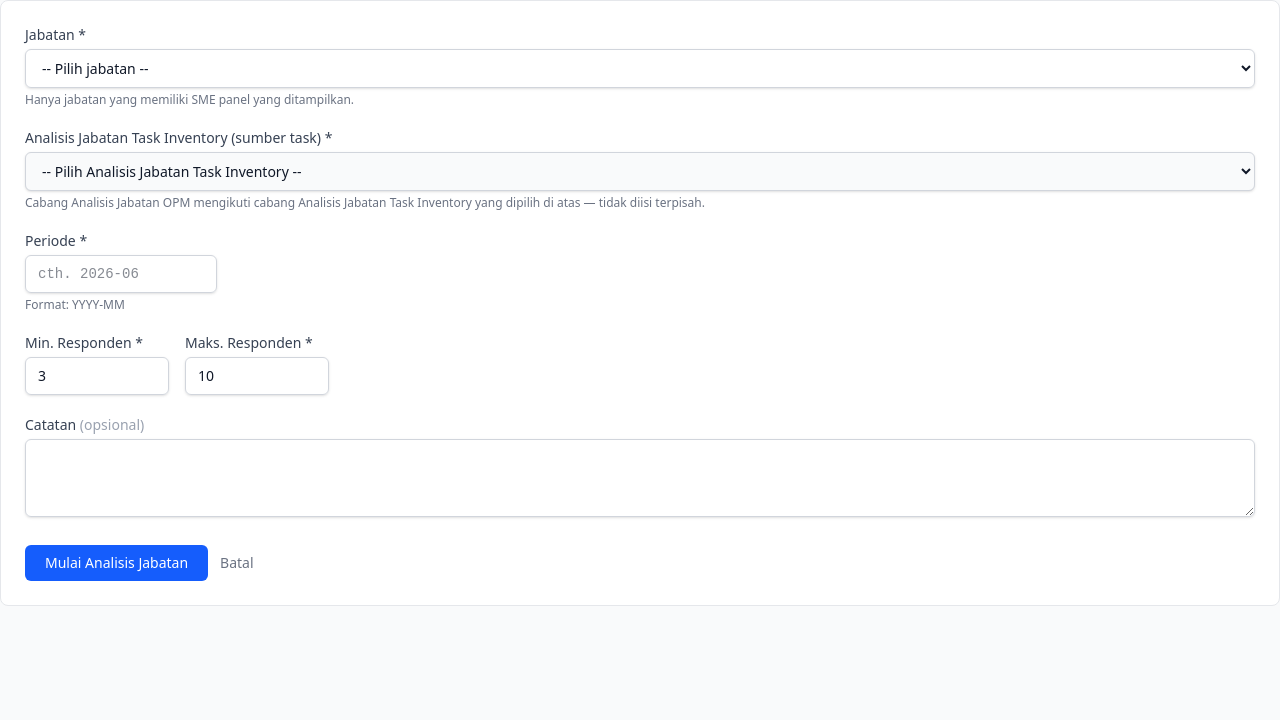
Test: OpmSesiForm — restriksi cabang sesi TI (backlog #54) › sesi TI ber-cabang null tidak muncul di dropdown, disertai pesan penjelas
Select "Guru Kelas SD" in the dropdown labelled "Jabatan *": (640, 68) [25,49,1255,88]
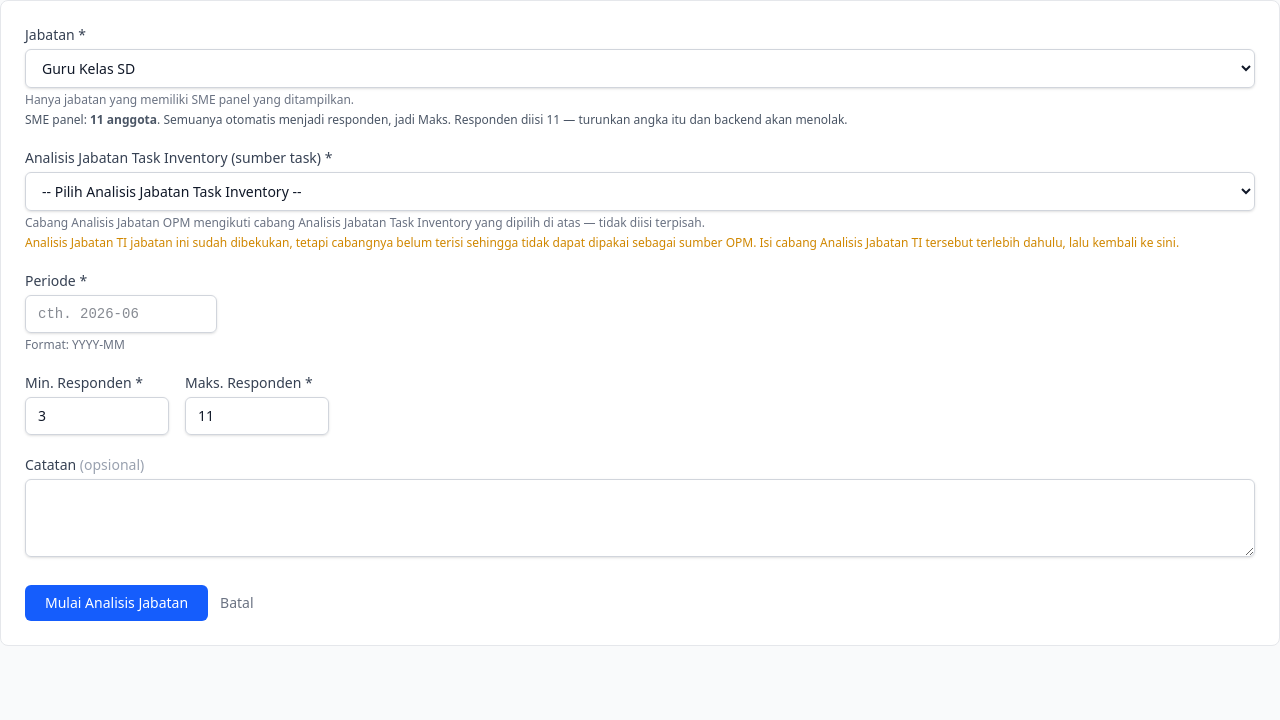
Check: the text "cabangnya belum terisi sehingga tidak dapat dipakai sebagai sumber OPM" is shown, box [25,234,1179,251]
